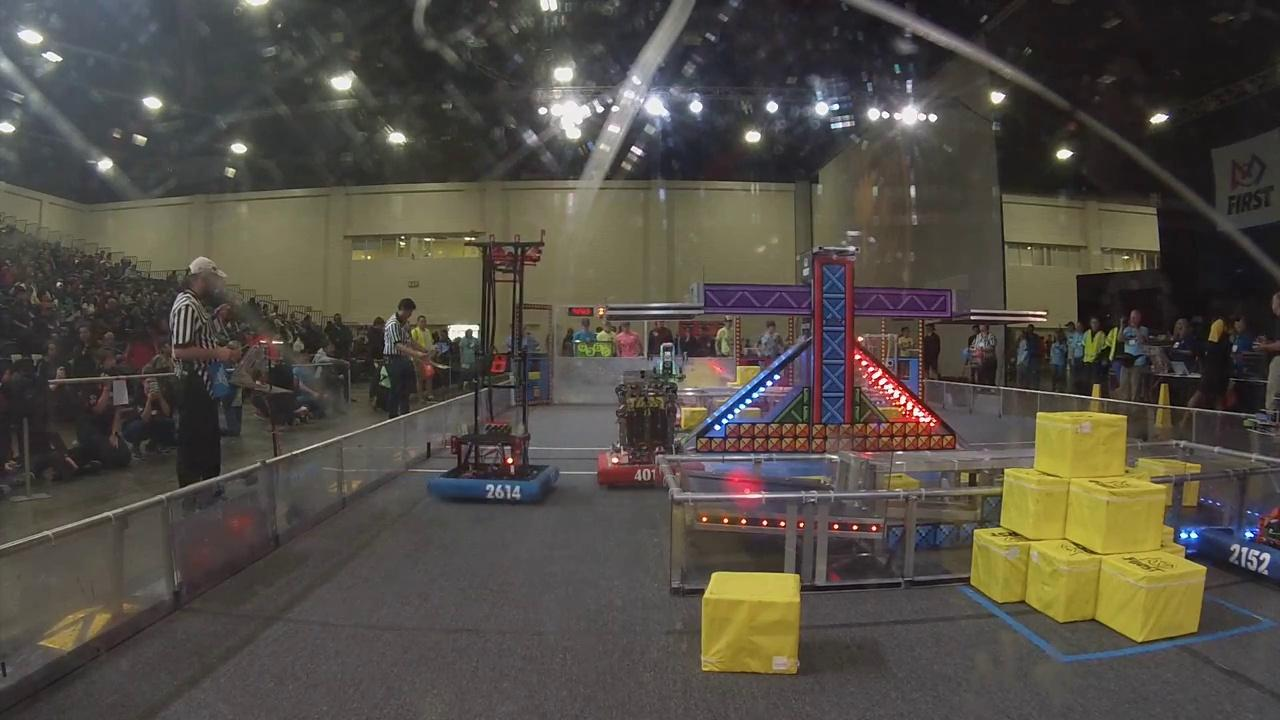robot: (428, 237, 562, 505), (595, 370, 706, 485)
